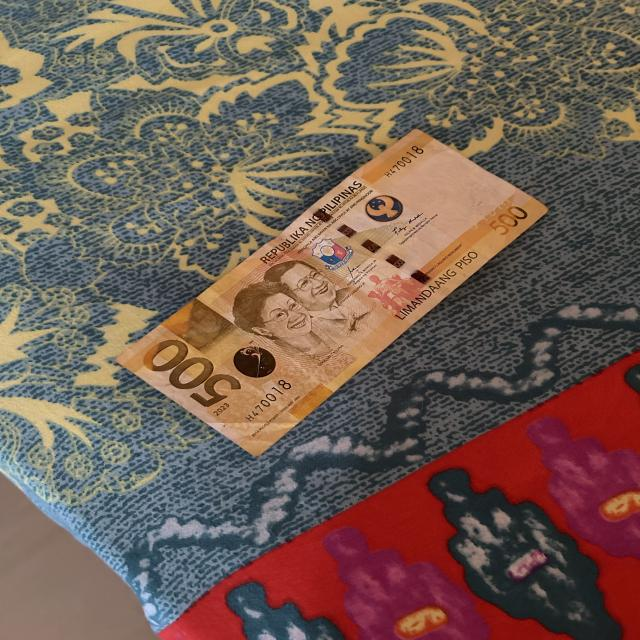concealed_value: (172, 304, 226, 339)
optically_variable_device: (228, 340, 280, 380)
value: (142, 336, 239, 413)
watermark: (403, 157, 502, 233)
